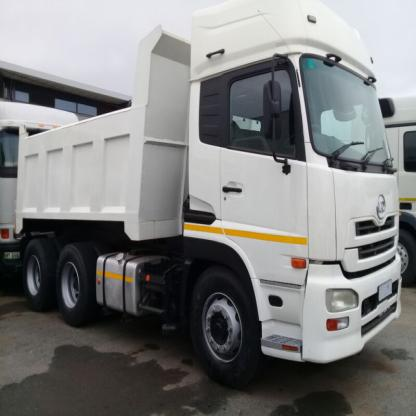dump_truck: (13, 8, 412, 386)
